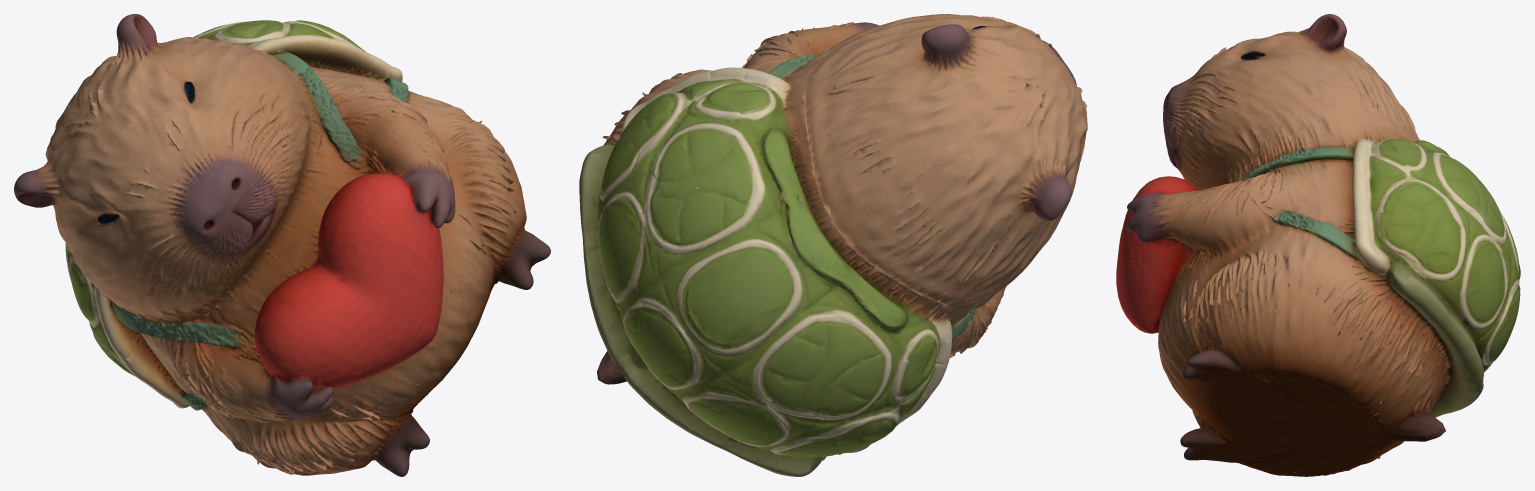
File: yakap-capybara.glb
3 views of the same model, side by side, from view 1: azimuth 30°, elevation 25°; view 2: azimuth 150°, elevation 25°; view 3: azimuth 270°, elevation 25° (orthographic). The views are drawn at different scales.
Visible parts, largest first — view 1: tripo_node_551cb8f6-8701-4459-81fb-3fc9f90dd541; view 2: tripo_node_551cb8f6-8701-4459-81fb-3fc9f90dd541; view 3: tripo_node_551cb8f6-8701-4459-81fb-3fc9f90dd541.
Boxes of the visible parts, x1,y1,x2,y2 form: tripo_node_551cb8f6-8701-4459-81fb-3fc9f90dd541: [14, 14, 550, 476]; tripo_node_551cb8f6-8701-4459-81fb-3fc9f90dd541: [579, 14, 1087, 476]; tripo_node_551cb8f6-8701-4459-81fb-3fc9f90dd541: [1116, 14, 1520, 476].
Size of the model in its own units: 1.06 by 1.01 by 0.9499.
1 material, 1 textured.
